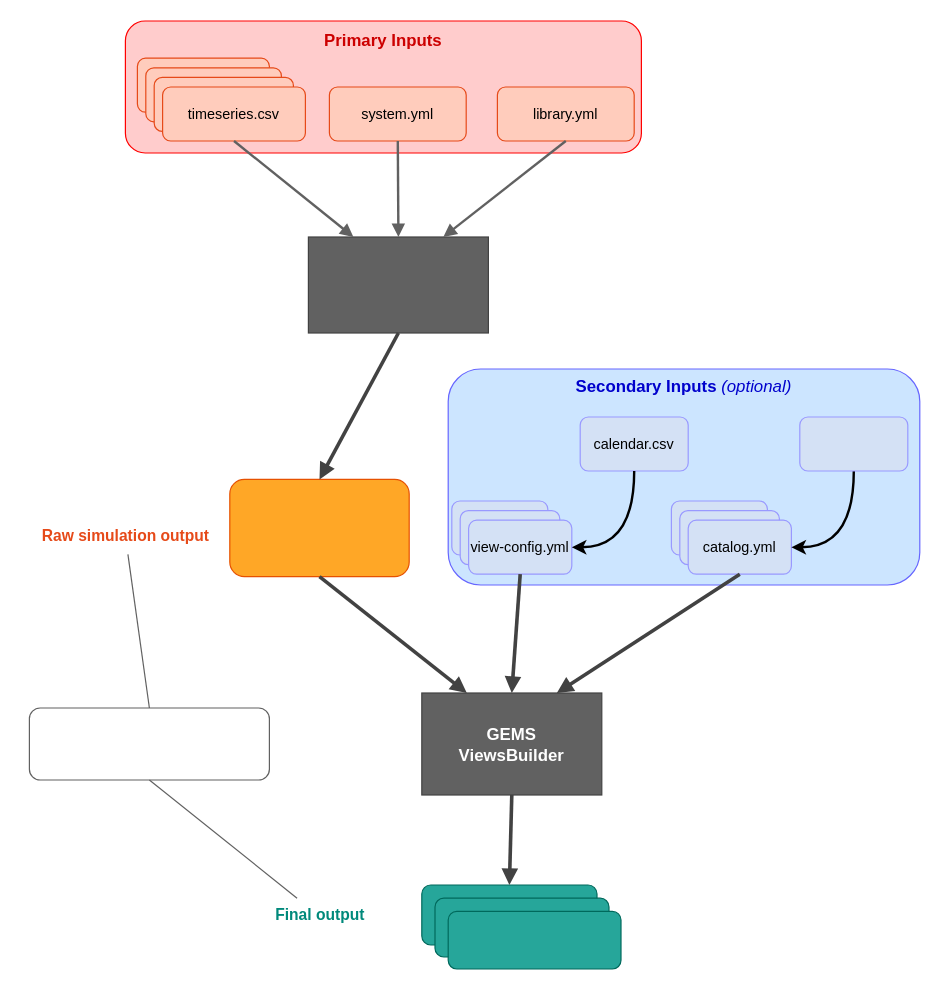
Image size: 941x990. Some labels were removed from this diagram. The centre of each missing label's shape, as x and y in pixels:
GEMS interpreter: point (397, 284)
Hard-coded column names are generic: independent from usecase.: point (148, 743)
SimulationTable (CSV, soon Parquet): point (319, 527)
taxonomy.yml: point (853, 443)
Views (Parquet): point (534, 939)
